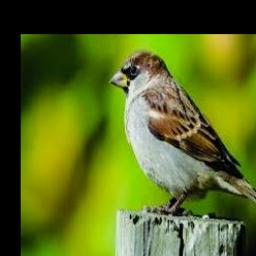Sparrow: (109, 51, 256, 222)
